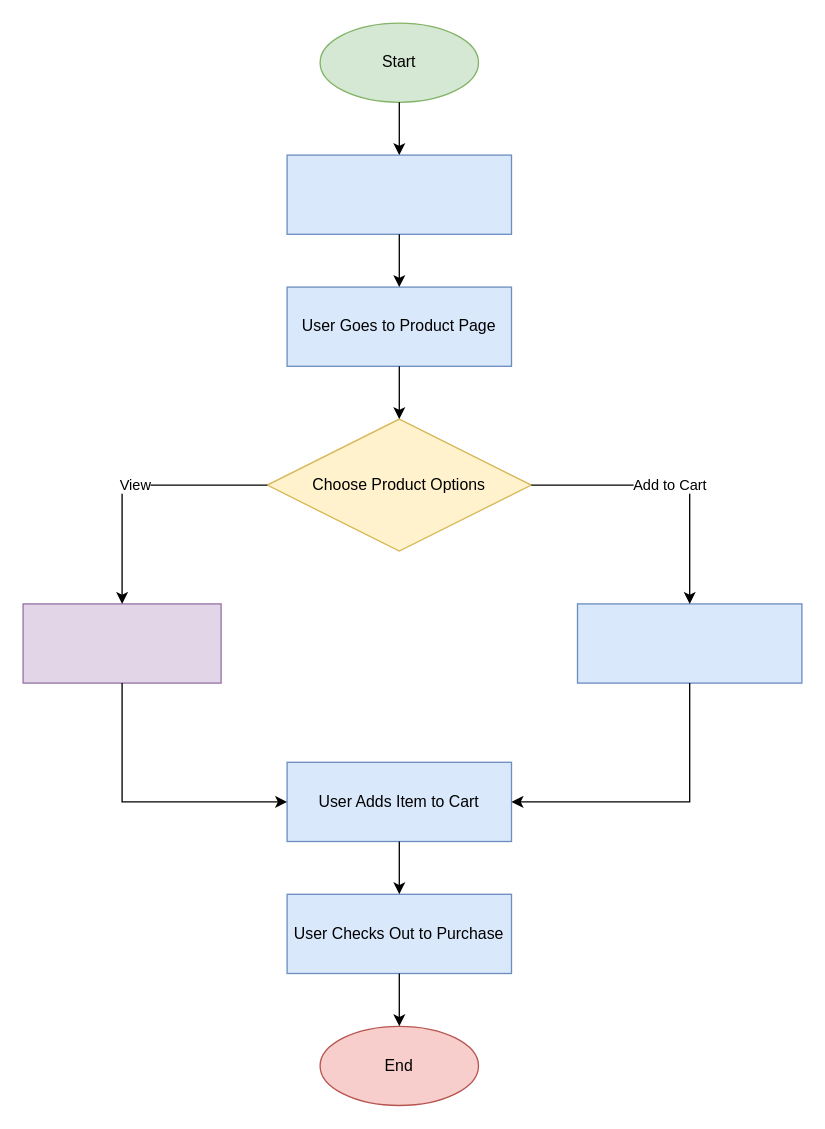
The diagram is 825 pixels wide and 1129 high, and some of its shapes have lost their labels. Each missing label, with the box of its shape:
Add to Cart (with options): (576, 603, 802, 683)
User Enters Website: (286, 154, 512, 234)
View Product Details: (22, 603, 221, 683)
